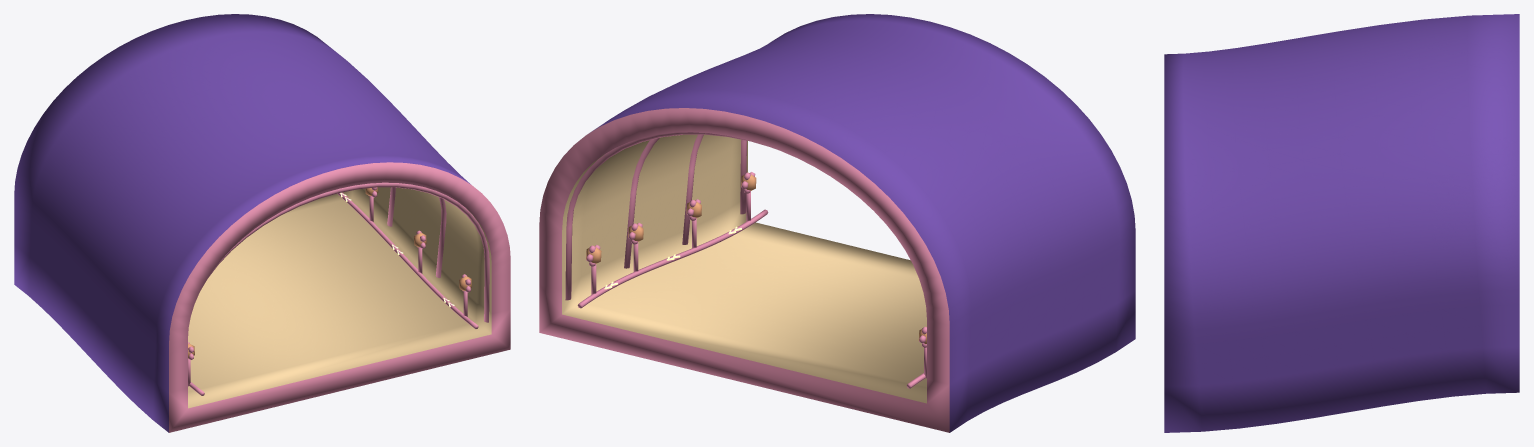
The model's file is grade_up_lod1.glb.
3 views of the same model, side by side, from view 1: azimuth 30°, elevation 25°; view 2: azimuth 150°, elevation 25°; view 3: azimuth 270°, elevation 25° (orthographic). The views are drawn at different scales.
Parts seen in each view (by area): view 1: TunnelGeometry.001; view 2: TunnelGeometry.001; view 3: TunnelGeometry.001.
Boxes of the visible parts, left/top/right/bottom form: TunnelGeometry.001: left=14, top=14, right=510, bottom=432; TunnelGeometry.001: left=539, top=14, right=1135, bottom=432; TunnelGeometry.001: left=1164, top=14, right=1519, bottom=432.
Size of the model in its own units: 15.3 by 11.02 by 12.
5 materials, 2 textured.
